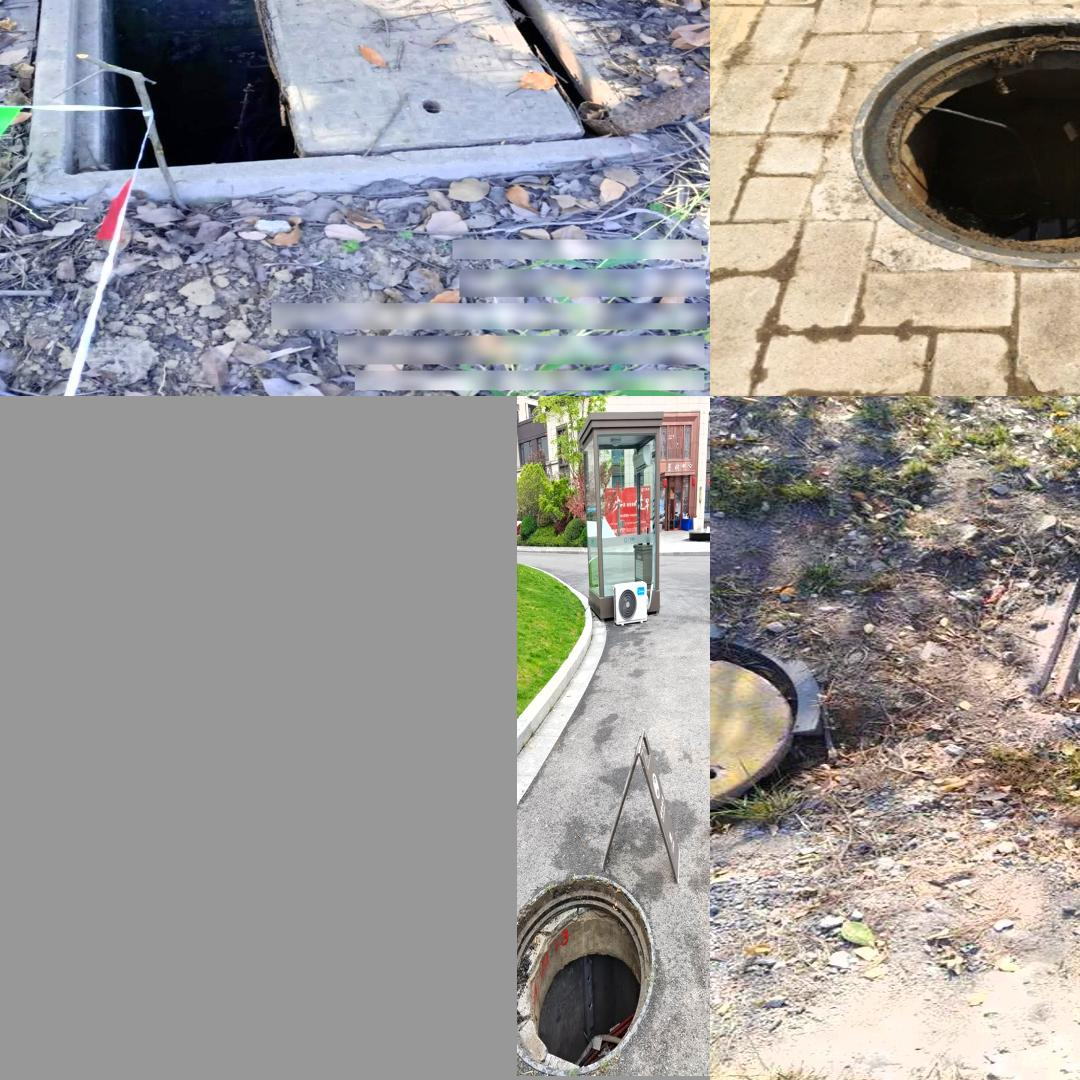lose: (22, 0, 702, 204), (851, 16, 1080, 267), (517, 871, 657, 1075), (977, 547, 1080, 770)
